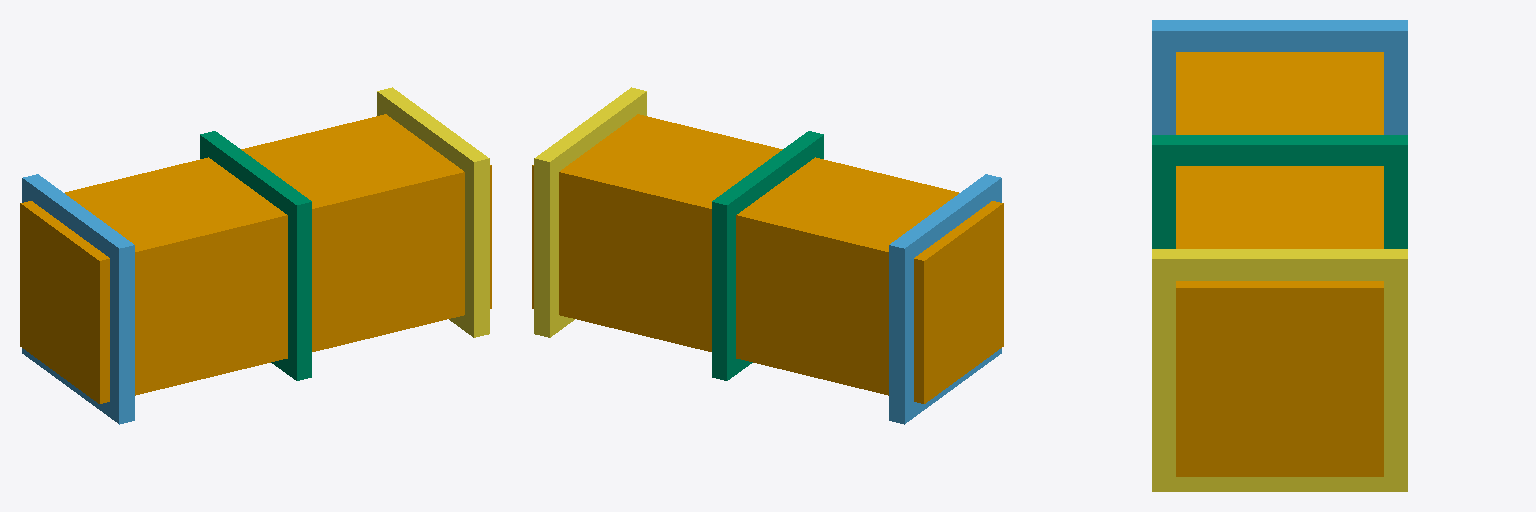
The robot description file, URDF, robot "debris005":
<?xml version="1.0" ?>
<robot name="debris005">

<link name="debris005">
<visual> <origin xyz="0 0 0" rpy="0 0 0" />
<geometry> <box size="1.26 0.44 0.44"/> </geometry>
</visual>
<collision> <origin xyz="0 0 0" rpy="0 0 0" />
<geometry> <box size="1.26 0.44 0.44"/> </geometry>
</collision>
<inertial> <origin xyz="0 0 0" rpy="0 0 0" />
<mass value="10.0" />
<inertia ixx="0.8520" ixy="0" ixz="0" iyy="0.8520" iyz="0" izz="0.8520" />
</inertial>
</link>
<gazebo reference="debris005"> <material>Gazebo/WoodPallet</material> </gazebo>

<link name="debris0050">
<visual> <origin xyz="-0.57 0 0" rpy="0 0 0" />
<geometry> <box size="0.05 0.54 0.54"/> </geometry>
</visual>
<collision> <origin xyz="-0.57 0 0" rpy="0 0 0" />
<geometry> <box size="0.05 0.54 0.54"/> </geometry>
</collision>
<inertial> <origin xyz="0 0 0" rpy="0 0 0" />
<mass value="0.1" />
<inertia ixx="0.0100" ixy="0" ixz="0" iyy="0.0100" iyz="0" izz="0.0100" />
</inertial>
</link>
<gazebo reference="debris0050"> <material>Gazebo/WoodPallet</material> </gazebo>

<joint name="debris0050joint" type="fixed">
<parent link="debris005"/>
<child link="debris0050"/>
<origin xyz="0 0 0" rpy="0 0 0" />
</joint>

<link name="debris0051">
<visual> <origin xyz="0.00 0 0" rpy="0 0 0" />
<geometry> <box size="0.05 0.54 0.54"/> </geometry>
</visual>
<collision> <origin xyz="0.00 0 0" rpy="0 0 0" />
<geometry> <box size="0.05 0.54 0.54"/> </geometry>
</collision>
<inertial> <origin xyz="0 0 0" rpy="0 0 0" />
<mass value="0.1" />
<inertia ixx="0.0100" ixy="0" ixz="0" iyy="0.0100" iyz="0" izz="0.0100" />
</inertial>
</link>
<gazebo reference="debris0051"> <material>Gazebo/WoodPallet</material> </gazebo>

<joint name="debris0051joint" type="fixed">
<parent link="debris005"/>
<child link="debris0051"/>
<origin xyz="0 0 0" rpy="0 0 0" />
</joint>

<link name="debris0052">
<visual> <origin xyz="0.57 0 0" rpy="0 0 0" />
<geometry> <box size="0.05 0.54 0.54"/> </geometry>
</visual>
<collision> <origin xyz="0.57 0 0" rpy="0 0 0" />
<geometry> <box size="0.05 0.54 0.54"/> </geometry>
</collision>
<inertial> <origin xyz="0 0 0" rpy="0 0 0" />
<mass value="0.1" />
<inertia ixx="0.0100" ixy="0" ixz="0" iyy="0.0100" iyz="0" izz="0.0100" />
</inertial>
</link>
<gazebo reference="debris0052"> <material>Gazebo/WoodPallet</material> </gazebo>

<joint name="debris0052joint" type="fixed">
<parent link="debris005"/>
<child link="debris0052"/>
<origin xyz="0 0 0" rpy="0 0 0" />
</joint>

</robot>

--- Render facts (derived) ---
Views: 3 orthographic renders of the robot side by side, from view 1: azimuth 30°, elevation 25°; view 2: azimuth 150°, elevation 25°; view 3: azimuth 270°, elevation 25°.
Model debris005 with 4 links and 3 joints (3 fixed), rooted at debris005, posed every joint at zero.
Links seen in each view (by area): view 1: debris005, debris0050, debris0052, debris0051; view 2: debris005, debris0050, debris0052, debris0051; view 3: debris005, debris0052, debris0050, debris0051.
Link boxes in pixels (x1,y1,x2,y2): debris005: [20, 114, 491, 403]; debris0050: [22, 174, 134, 424]; debris0052: [377, 87, 489, 337]; debris0051: [200, 131, 311, 380]; debris005: [532, 114, 1003, 403]; debris0050: [889, 174, 1001, 424]; debris0052: [534, 87, 646, 337]; debris0051: [712, 131, 823, 380]; debris005: [1176, 52, 1383, 476]; debris0052: [1152, 249, 1407, 491]; debris0050: [1152, 20, 1407, 134]; debris0051: [1152, 135, 1407, 248].
Size in the robot's own frame: 1.26 by 0.54 by 0.54 metres.
Geometry: primitives only (box / cylinder / sphere), no mesh files.
